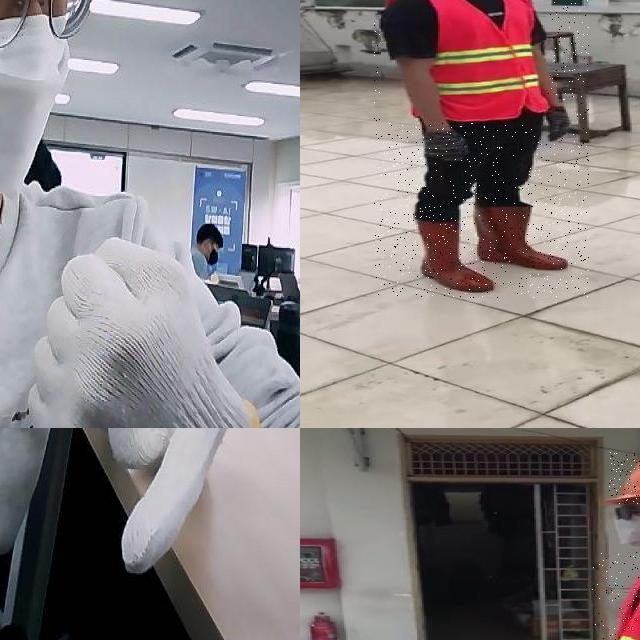BOOTS: (472, 199, 586, 270), (407, 215, 495, 296)
GLASS: (614, 497, 640, 520)
GLOVE: (27, 235, 263, 428), (83, 428, 300, 574), (422, 125, 468, 163), (546, 104, 573, 143)
HELMET: (609, 452, 640, 504)
VEST: (381, 0, 548, 123)
